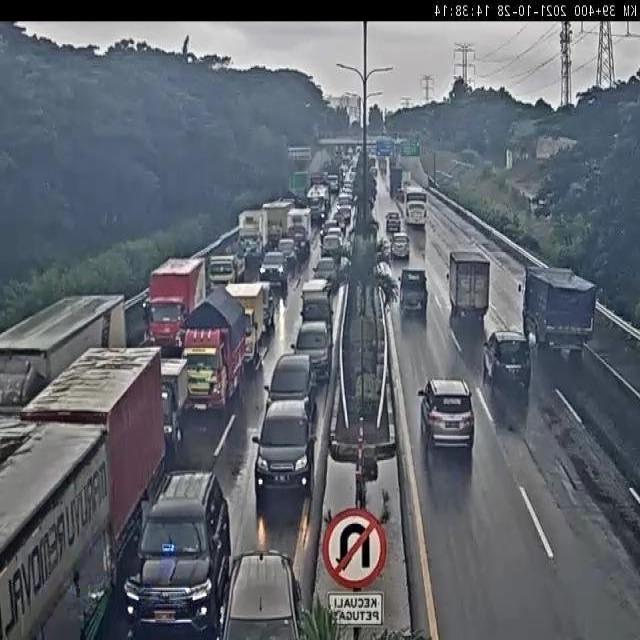Bus: (404, 185, 427, 228)
Car: (218, 549, 307, 639), (252, 398, 316, 496), (420, 378, 475, 456), (265, 352, 317, 423), (484, 331, 532, 404), (294, 320, 332, 381), (398, 268, 428, 318), (300, 279, 334, 322), (259, 249, 290, 295), (208, 254, 240, 290), (312, 256, 339, 287), (321, 230, 344, 260), (276, 238, 296, 267), (287, 223, 308, 249), (390, 232, 410, 258), (342, 166, 358, 196), (336, 204, 353, 229), (386, 211, 402, 234), (326, 173, 340, 194)
Truck: (2, 347, 165, 640), (0, 296, 126, 414), (524, 266, 598, 359), (146, 257, 209, 354), (226, 282, 274, 370), (448, 250, 490, 327), (238, 209, 268, 260), (306, 183, 331, 223), (389, 166, 403, 197)
